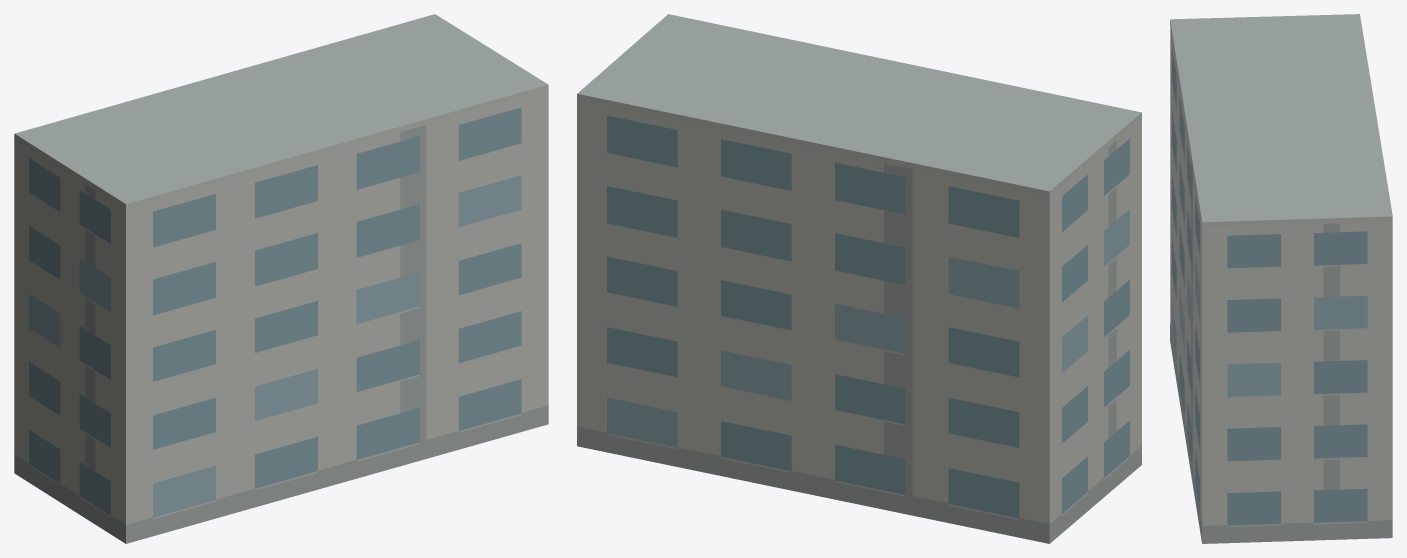
File: survey-upis-32706331.glb
3 views of the same model, side by side, from view 1: azimuth 30°, elevation 25°; view 2: azimuth 150°, elevation 25°; view 3: azimuth 270°, elevation 25° (orthographic). The views are drawn at different scales.
Visible parts, largest first — view 1: survey-upis-32706331.tmp; view 2: survey-upis-32706331.tmp; view 3: survey-upis-32706331.tmp.
Part boxes in pixels (<box>): survey-upis-32706331.tmp: <box>14,14,548,543</box>; survey-upis-32706331.tmp: <box>577,14,1141,543</box>; survey-upis-32706331.tmp: <box>1170,14,1392,543</box>.
Bounding box in the file's own units: 20.15 × 14.5 × 9.11.
